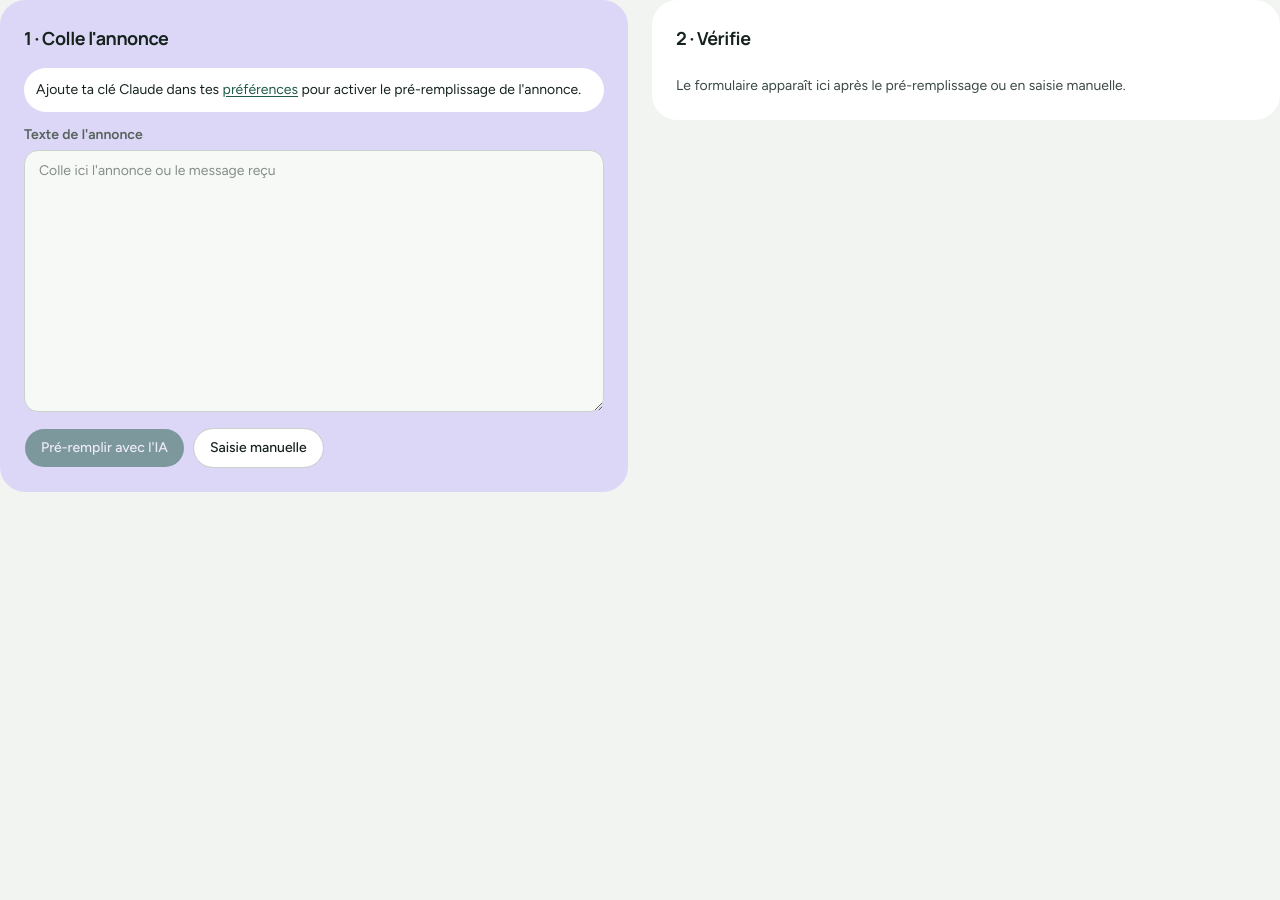
Test: NewJobApplicationForm › disables the prefill without a Claude key, points to the settings and keeps manual entry
This screenshot has width=1280, height=900.
Expected: the button "Pré-remplir avec l'IA" is disabled, 24,428 -> 185,468
Expected: the element that starts with "Ajoute ta clé Claude dans tes" shows "Ajoute ta clé Claude dans tes préférences pour activer", 24,68 -> 604,112
Click the button "Saisie manuelle".
click(258, 448)  # box 193,428 -> 324,468
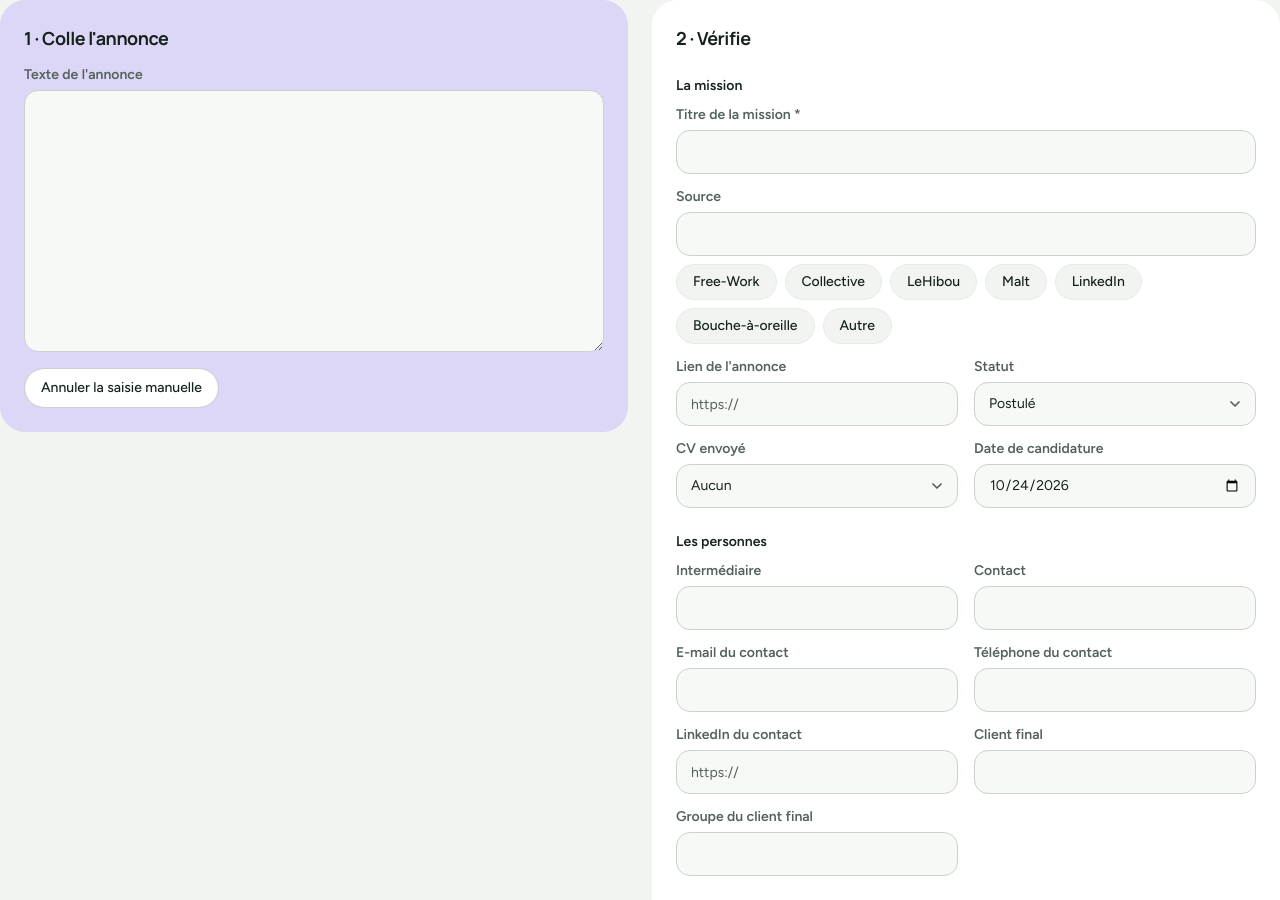
Now the field labelled "Titre de la mission *" is shown, box 676,130 -> 1256,174
